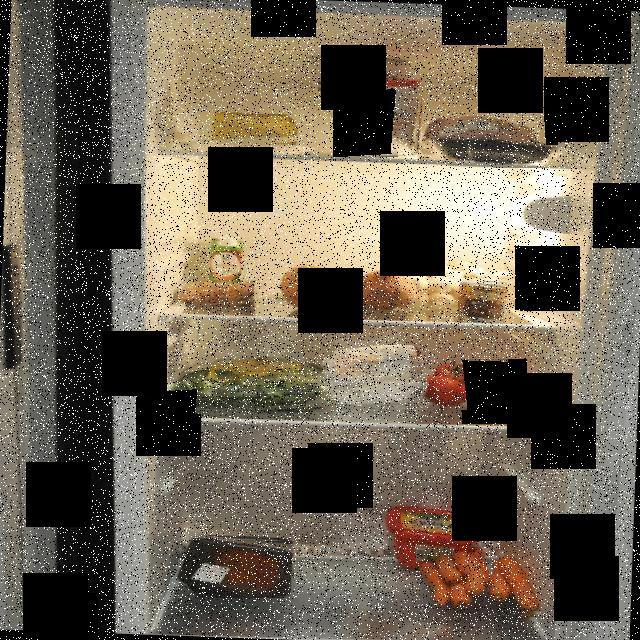beef: (174, 532, 294, 598)
butter: (384, 501, 482, 568)
carrot: (417, 547, 542, 621)
cheese: (202, 112, 303, 150)
chicken: (422, 110, 558, 168)
corn: (458, 280, 508, 322)
flour: (315, 345, 423, 415)
heavy_cream: (208, 233, 246, 300)
mushrooms: (392, 255, 520, 315)
shrimp: (174, 280, 260, 308)
spinach: (170, 357, 338, 416)
sugar: (346, 78, 424, 160)
sweet_potato: (278, 256, 420, 321)
tomato: (416, 355, 508, 410)
